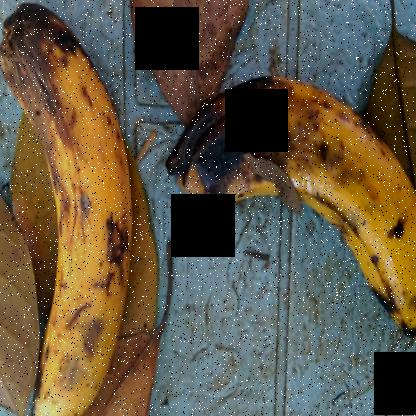overripe: (17, 156, 143, 415), (322, 96, 415, 345)
rotten: (158, 57, 351, 245), (1, 0, 115, 202)
